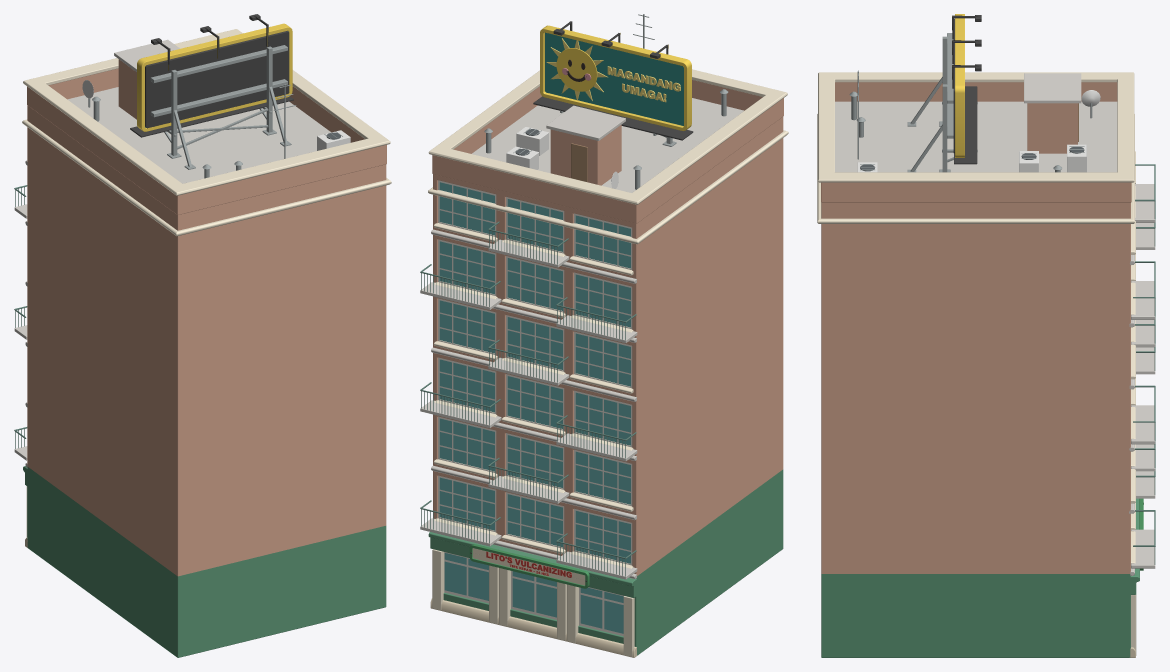
The model's file is far_panel_01.glb.
3 renders of one model, left to right at view 1: azimuth 30°, elevation 25°; view 2: azimuth 150°, elevation 25°; view 3: azimuth 270°, elevation 25°, orthographic. The views are drawn at different scales.
Visible parts, largest first — view 1: shell, trim, billboard_sun, props; view 2: shell, trim, props, frames, billboard_sun, sign_lito_s_vulcanizing, billboard_sun_text, sign_lito_s_vulcanizing_text; view 3: shell, trim, props, billboard_sun.
Boxes of the visible parts, x1=… form: shell: x1=27, y1=87, x2=386, y2=657; trim: x1=22, y1=29, x2=391, y2=547; billboard_sun: x1=130, y1=14, x2=293, y2=169; props: x1=14, y1=39, x2=350, y2=460; shell: x1=433, y1=98, x2=783, y2=655; trim: x1=428, y1=69, x2=788, y2=657; props: x1=420, y1=14, x2=728, y2=579; frames: x1=438, y1=180, x2=632, y2=636; billboard_sun: x1=533, y1=21, x2=693, y2=146; sign_lito_s_vulcanizing: x1=469, y1=544, x2=589, y2=588; billboard_sun_text: x1=607, y1=66, x2=680, y2=102; sign_lito_s_vulcanizing_text: x1=486, y1=551, x2=571, y2=577; shell: x1=821, y1=101, x2=1130, y2=657; trim: x1=817, y1=72, x2=1139, y2=657; props: x1=849, y1=70, x2=1155, y2=568; billboard_sun: x1=907, y1=14, x2=981, y2=172.
Size of the model in its own units: 11.56 by 28.19 by 15.29.
